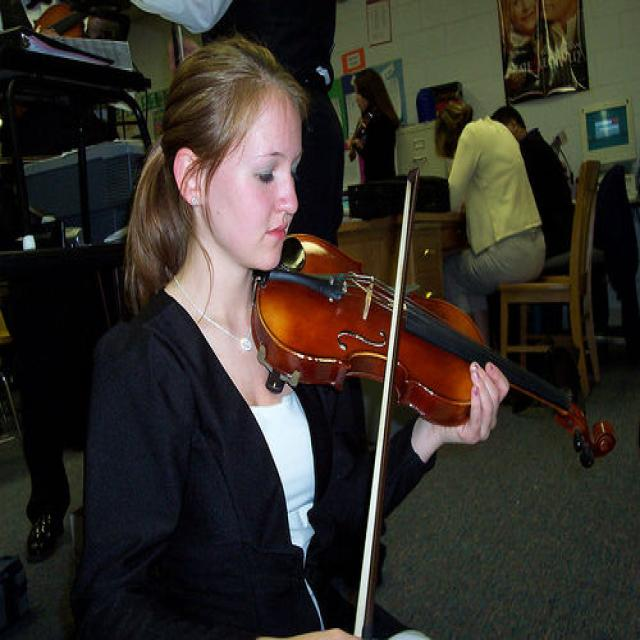People: (86, 41, 322, 640), (0, 168, 86, 601), (431, 79, 515, 295), (489, 67, 573, 275), (347, 48, 403, 241)
Table: (340, 187, 489, 329)
chair: (487, 155, 623, 438)
